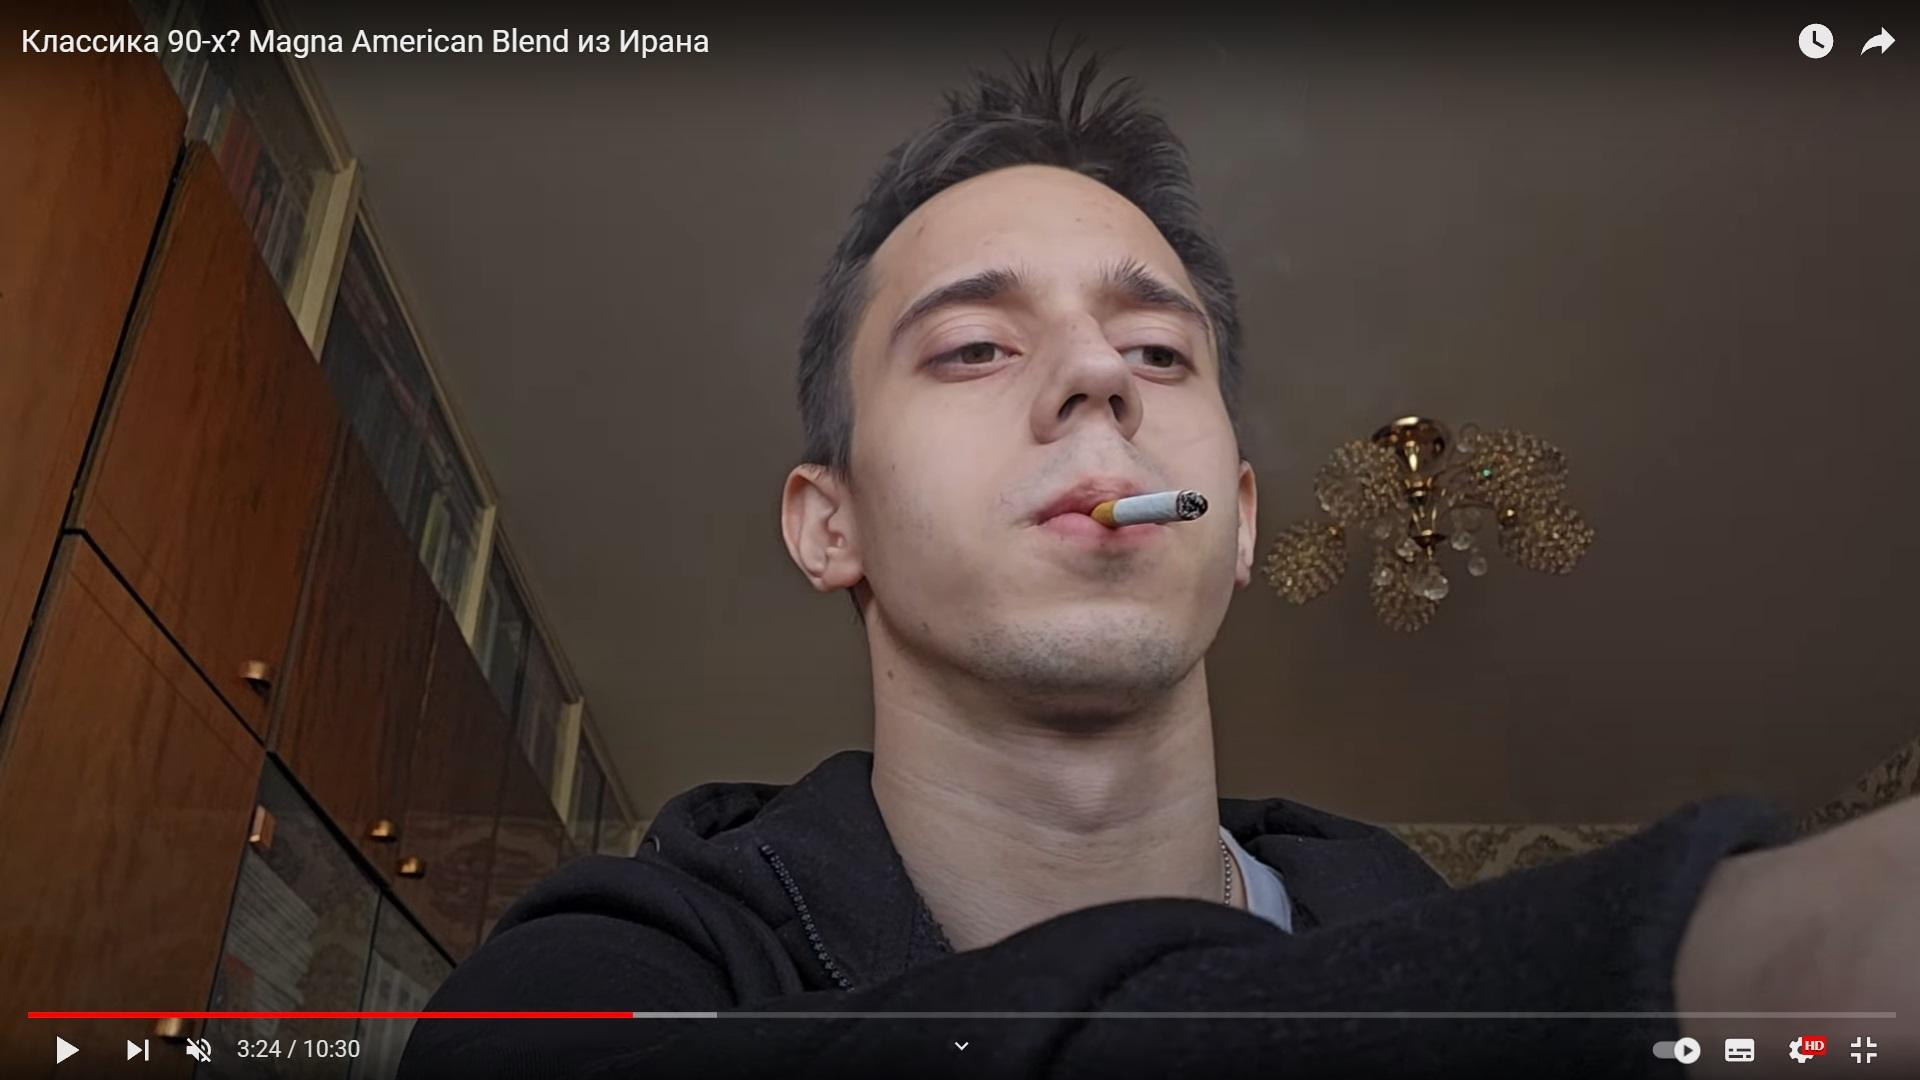cigarette: (1092, 492, 1208, 529)
